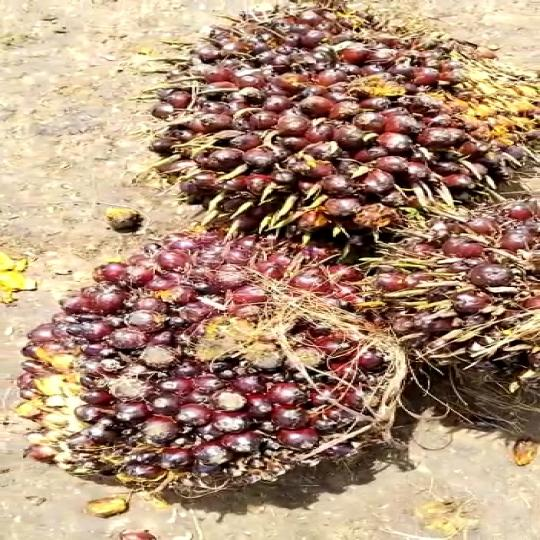kurang masak: (0, 236, 414, 501), (117, 0, 540, 254)
